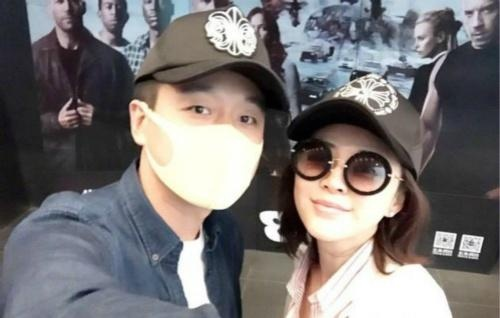Mask: (157, 79, 289, 210)
